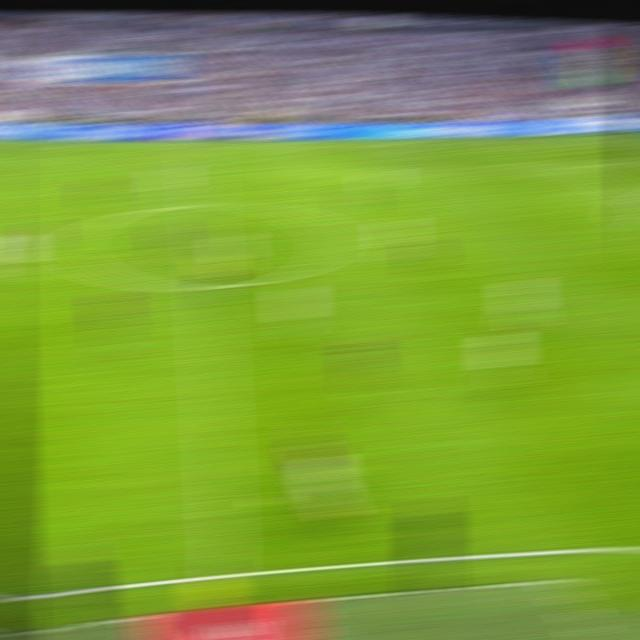bigarea_bottom_inner: (205, 501, 237, 525)
halfcircle_bottom: (192, 274, 224, 297)
halfcircle_top: (189, 195, 217, 213)
midline_bottom_intersection: (208, 556, 242, 583)
midline_top_intersection: (186, 138, 213, 151)
top_arc_area_intersection: (621, 188, 640, 203)
